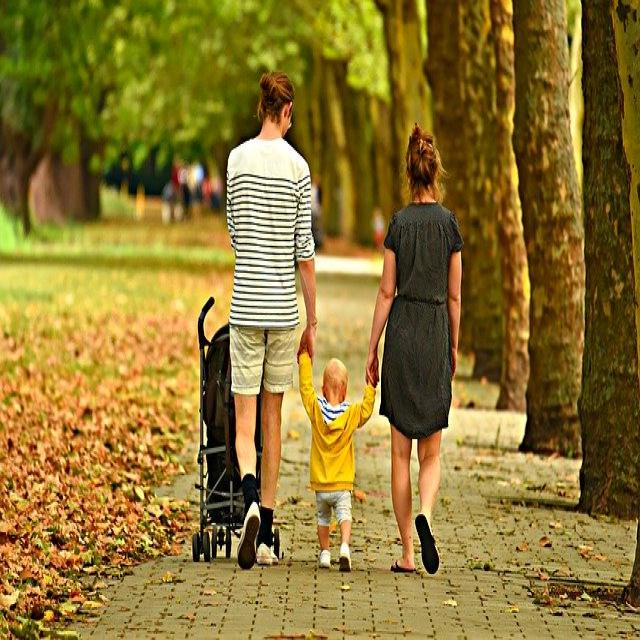adult: (224, 67, 319, 571), (363, 122, 462, 577)
child: (296, 324, 378, 576)
